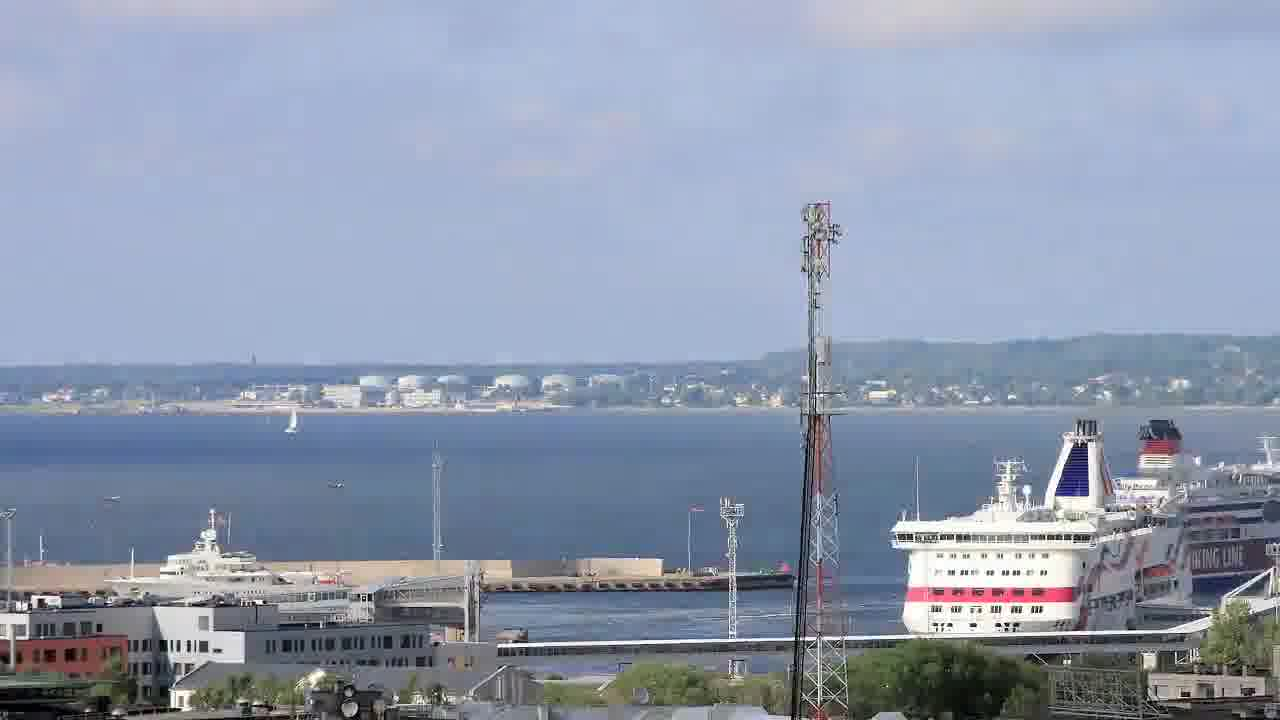type-2: (276, 392, 348, 450)
type-3: (868, 415, 1225, 638), (1097, 405, 1279, 603), (89, 518, 402, 620)
